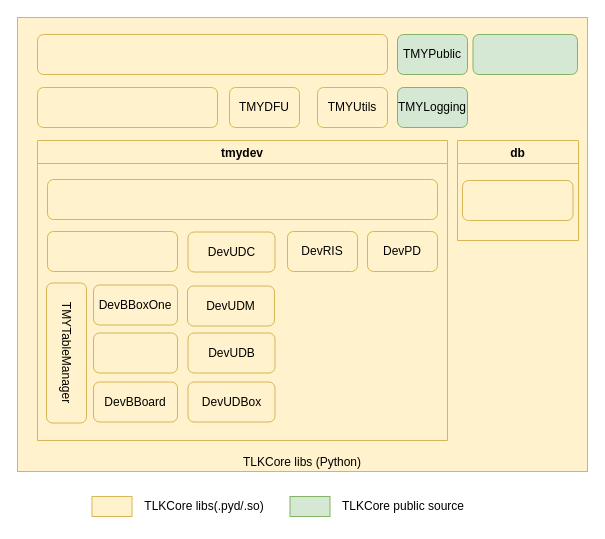
The diagram is 605 pixels wide and 539 high, and some of its shapes have lost their labels. Here are the shapes that lost their labels. From the top down, the centre of each, then its label:
pixel 212 54: TLKCoreService
pixel 525 54: TMYBeamConfig
pixel 127 107: TMYCommService
pixel 242 199: Device
pixel 517 200: TMYDBQueryer
pixel 112 251: DevBBox
pixel 135 352: DevBBoxLite
